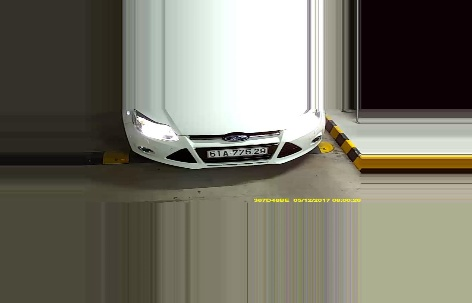plate: (207, 144, 264, 159)
